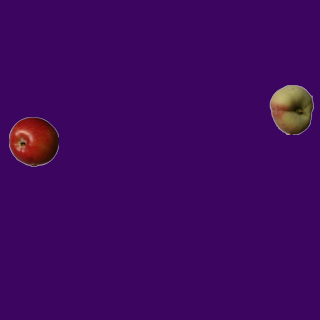Apple Braeburn: (8, 116, 58, 166)
Peach Flat: (266, 84, 316, 134)
